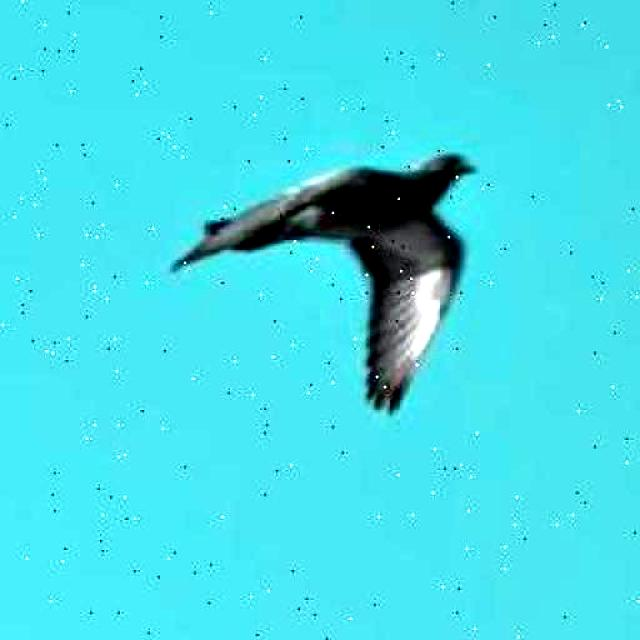airplane: (158, 131, 478, 422)
